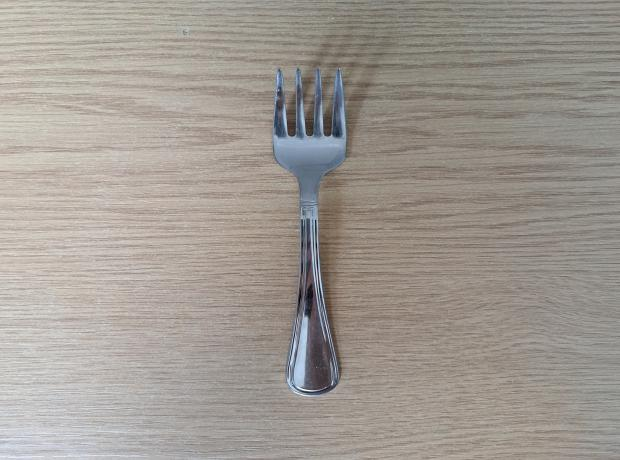metal: (273, 66, 348, 398)
